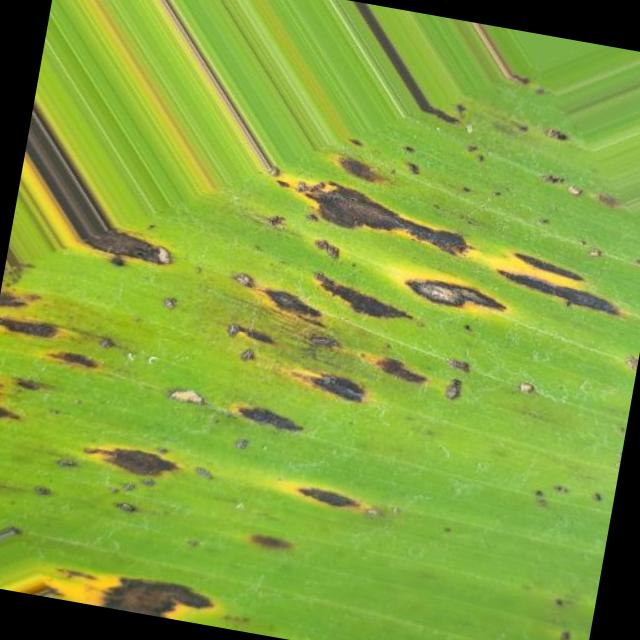Banana_Black_Sigatoka: (212, 117, 640, 483), (0, 168, 196, 473), (33, 511, 232, 626)
